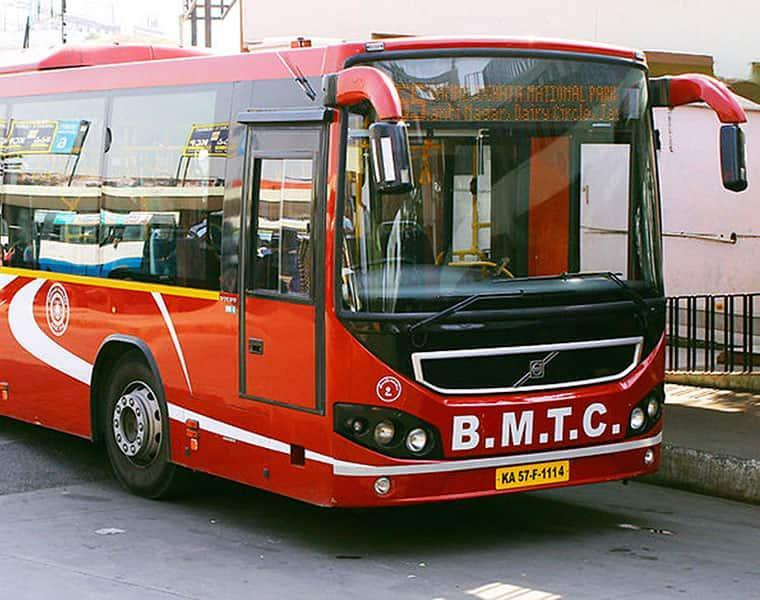Bus: (0, 35, 744, 511)
